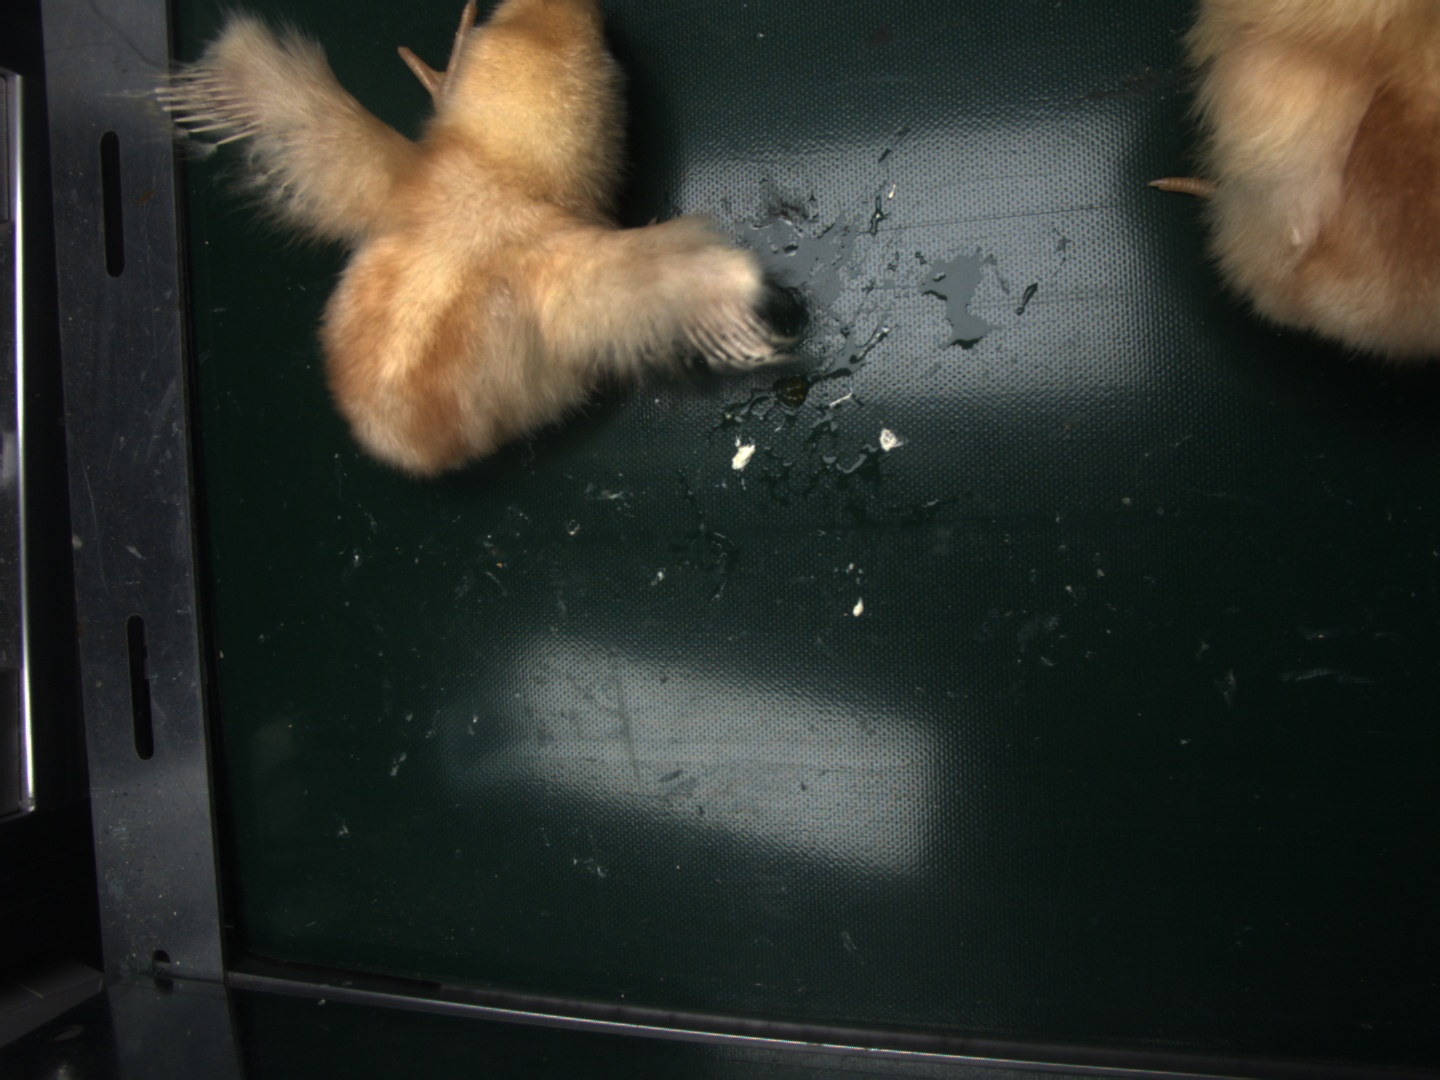female: (166, 65, 249, 144)
